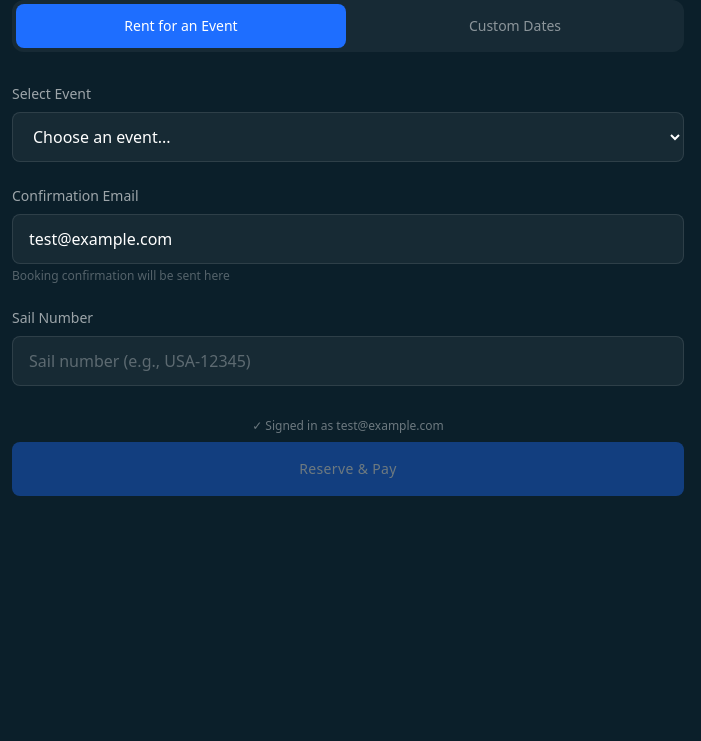
Test case: ReserveBookingUI › shows per-day pricing instead of flat fee
// Select an event to trigger pricing display
Step 1. Select "Regatta Cup 2026 — Newport, RI (2026-06-10 to 2026-06-12)" in the dropdown → (348, 137), box 12,112 -> 684,162
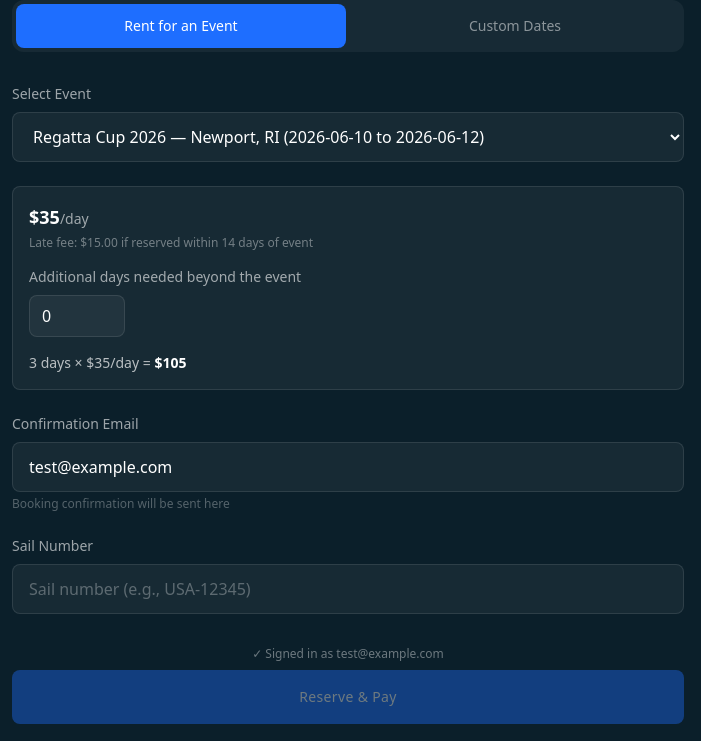
Check: the text "3 days × $35/day = $105" is shown, box 29,353 -> 186,372
